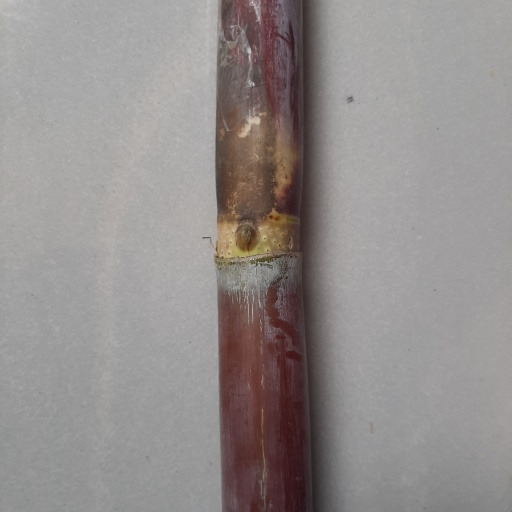Bud: (233, 224, 260, 254)
